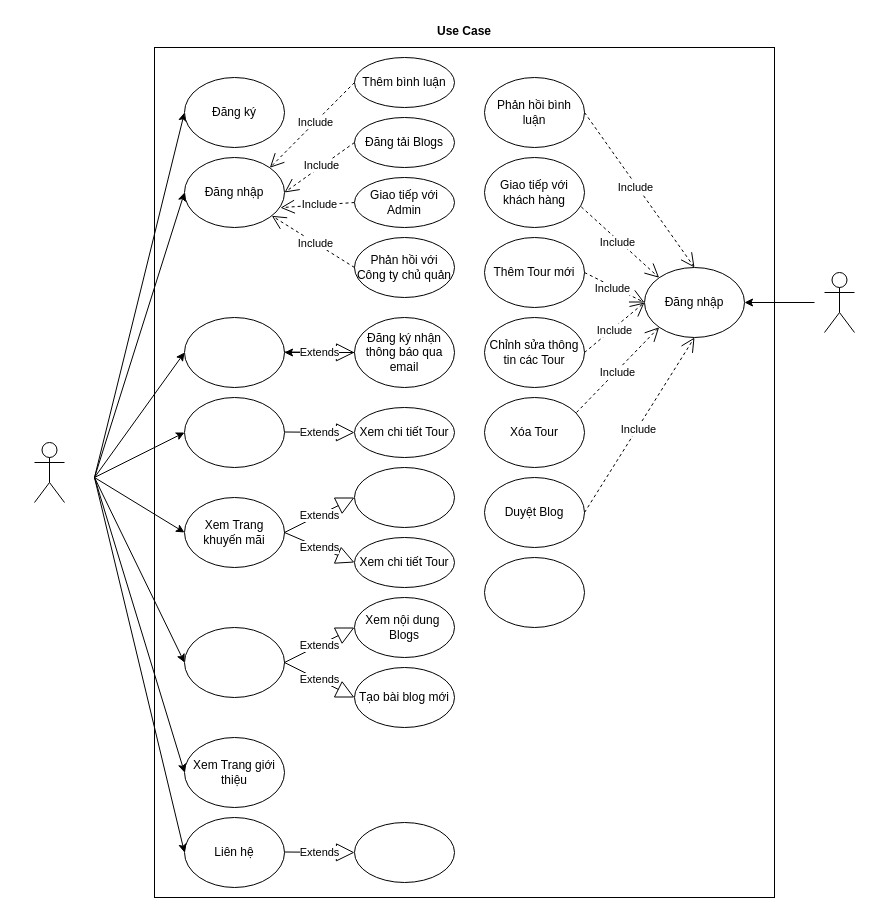
The diagram is 873 pixels wide and 915 high, and some of its shapes have lost their labels. The centre of each missing label's shape, as x and y in pixels:
Admin: the point at 839,302
Khách hàng: the point at 49,472
Lọc theo vùng miền, khuyến mãi: the point at 404,497
Phản hồi nhanh: the point at 404,852
Xem Trang Blog của khách hàng: the point at 234,662
Xem Trang chủ: the point at 234,352
Xem Trang chủ đề: the point at 234,432
Xóa Blog: the point at 534,592
